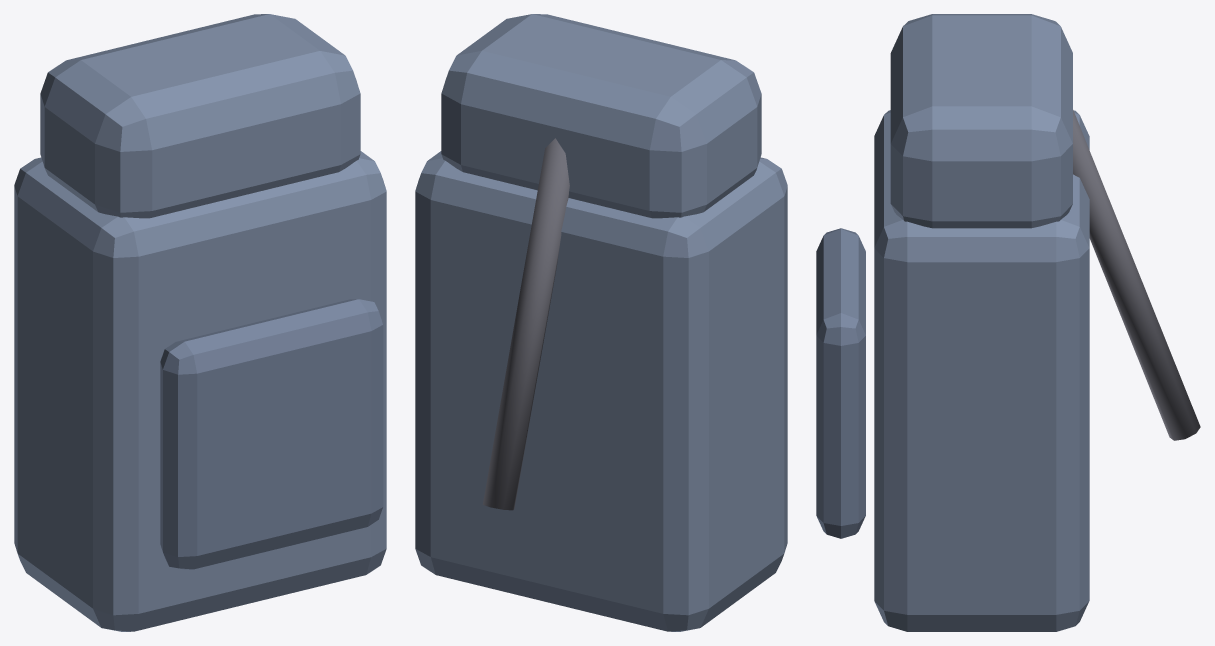
The model's file is luggage_bag.glb.
3 views of the same model, side by side, from view 1: azimuth 30°, elevation 25°; view 2: azimuth 150°, elevation 25°; view 3: azimuth 270°, elevation 25° (orthographic).
Parts seen in each view (by area): view 1: bag_body, bag_pocket, bag_top; view 2: bag_body, bag_top, bag_strap; view 3: bag_body, bag_top, bag_pocket, bag_strap.
Boxes of the visible parts, <box> form: bag_body: <box>14,151,386,631</box>; bag_pocket: <box>160,299,383,569</box>; bag_top: <box>40,14,360,218</box>; bag_body: <box>415,151,787,631</box>; bag_top: <box>441,14,761,218</box>; bag_strap: <box>482,138,569,510</box>; bag_body: <box>874,110,1089,631</box>; bag_top: <box>890,14,1072,228</box>; bag_pocket: <box>816,228,865,538</box>; bag_strap: <box>1073,110,1200,440</box>.
Size of the model in its own units: 0.4 by 0.685 by 0.4643.
